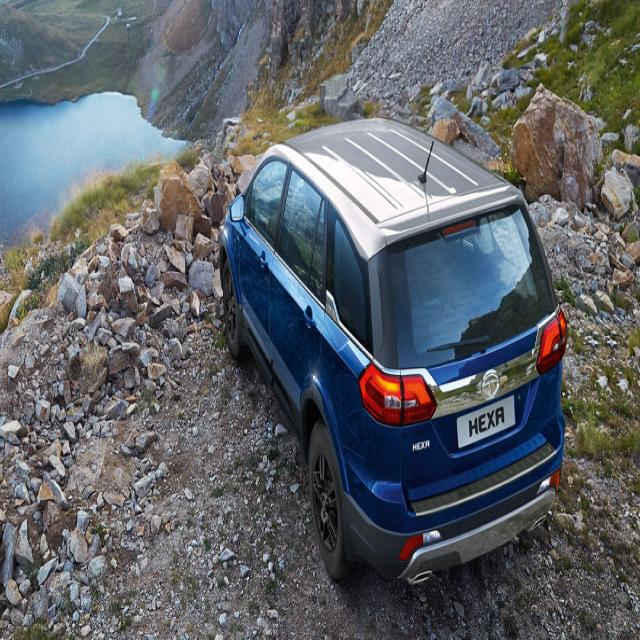Car: (212, 103, 586, 580)
